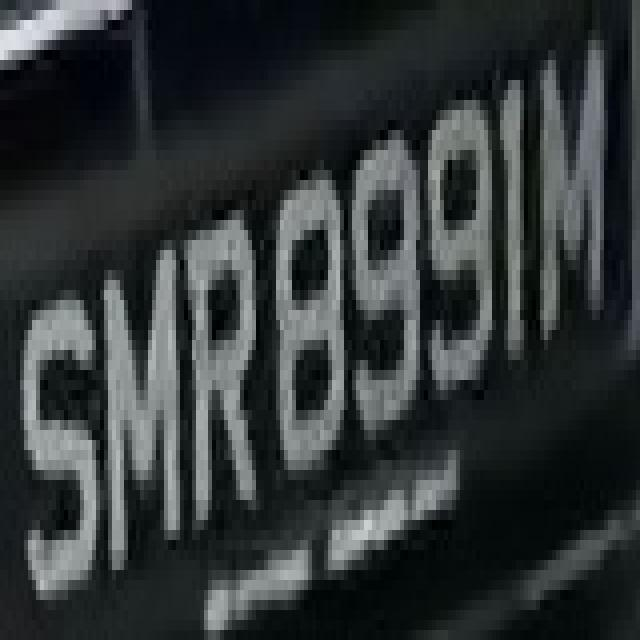1: (488, 50, 540, 410)
8: (264, 170, 344, 470)
9: (340, 100, 432, 450), (408, 70, 496, 420)
M: (96, 200, 184, 580), (528, 10, 620, 370)
R: (180, 210, 264, 570)
S: (20, 280, 96, 610)
